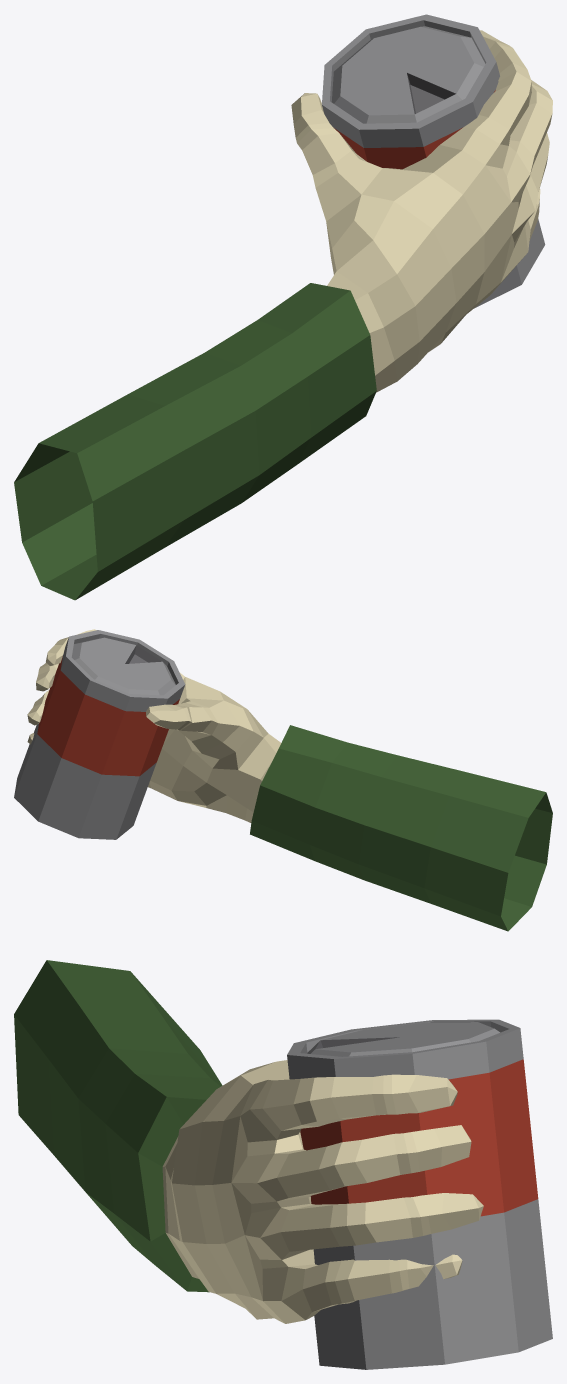
File: EquipedCan.fbx
The picture shows the model from 3 angles, top to bottom: view 1: azimuth 30°, elevation 25°; view 2: azimuth 150°, elevation 25°; view 3: azimuth 270°, elevation 25°; orthographic projection. The views are drawn at different scales.
Visible parts, largest first — view 1: pasted__Hand6; view 2: pasted__Hand6; view 3: pasted__Hand6.
Part boxes in pixels (x1=…): pasted__Hand6: x1=14, y1=14, x2=552, y2=600; pasted__Hand6: x1=14, y1=629, x2=552, y2=931; pasted__Hand6: x1=14, y1=960, x2=552, y2=1369.
Bounding box in the file's own units: 1.48 × 0.8344 × 0.864.
